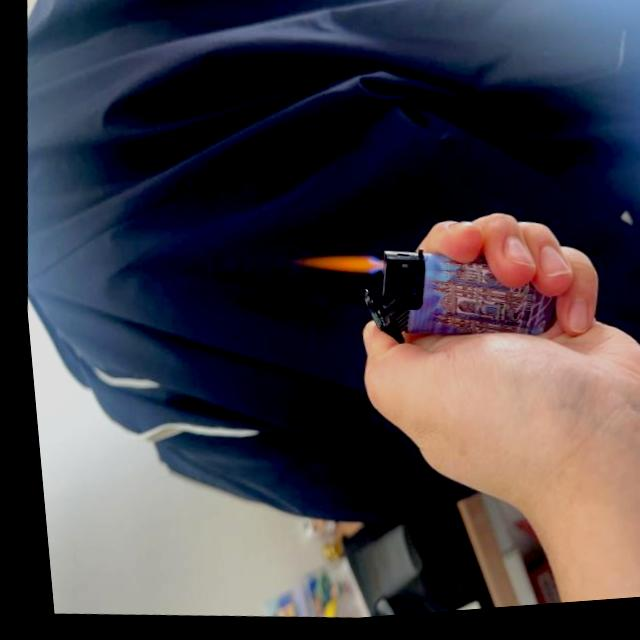helmet: (285, 248, 382, 286)
